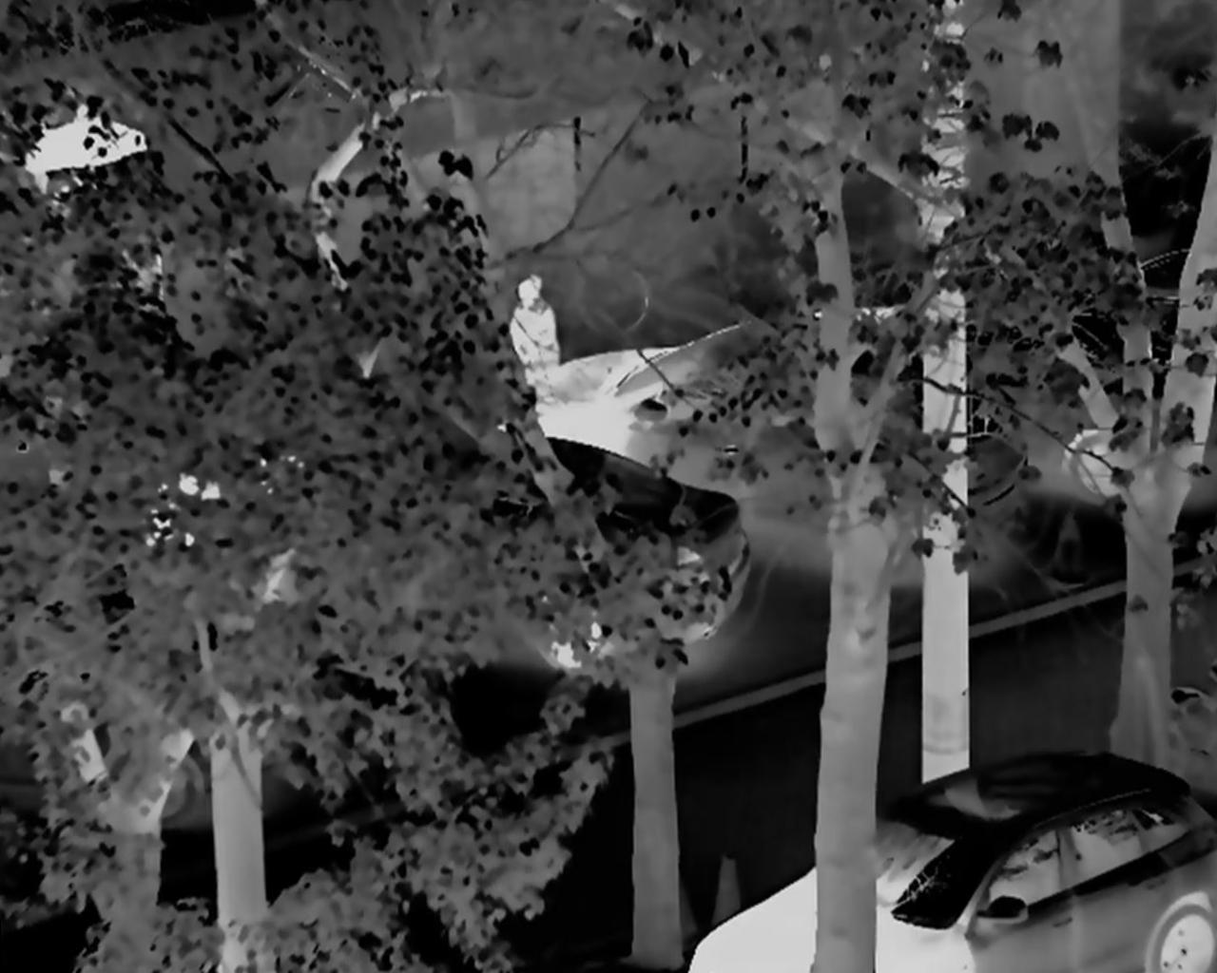person: (507, 277, 574, 396)
